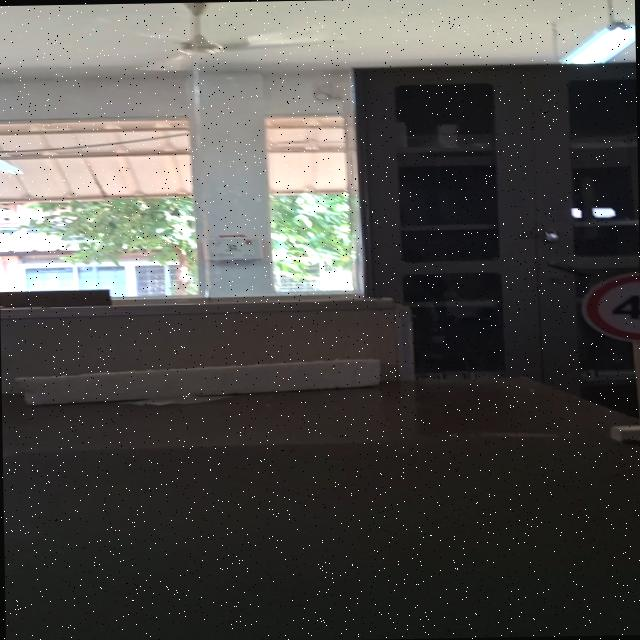Speed40: (575, 268, 640, 348)
